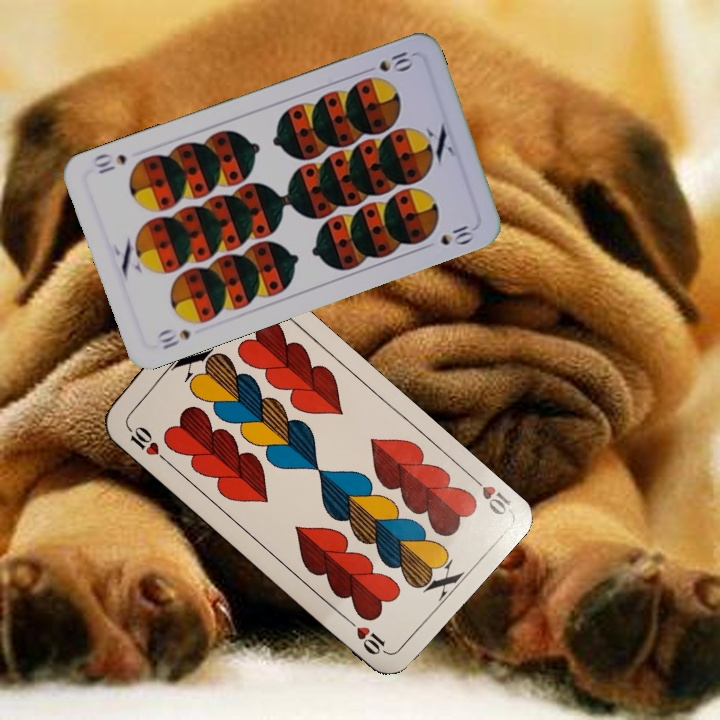H10: (464, 469, 515, 518), (121, 419, 170, 464)
S10: (375, 47, 416, 76), (152, 325, 193, 352)
